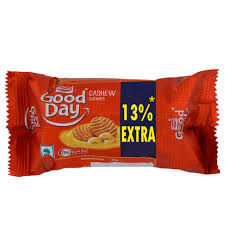gooday-small: (5, 69, 219, 178)
